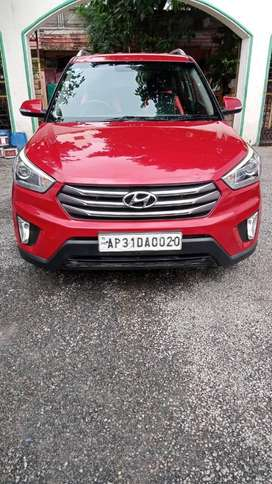AP31DA0020: (98, 231, 182, 251)
